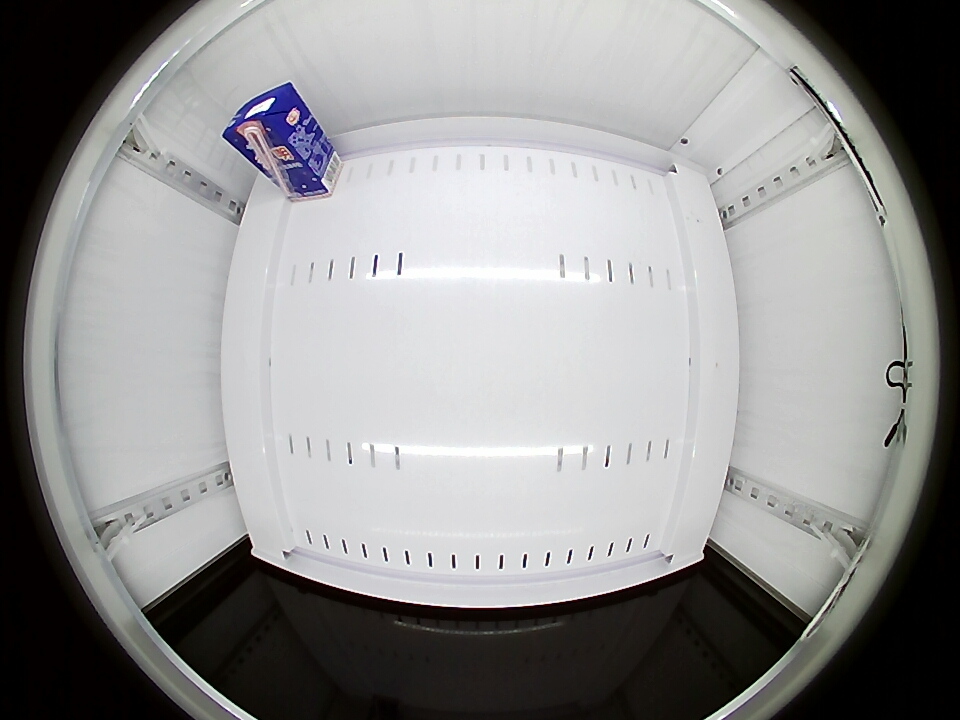bingqilinniunai: (222, 82, 309, 161)
